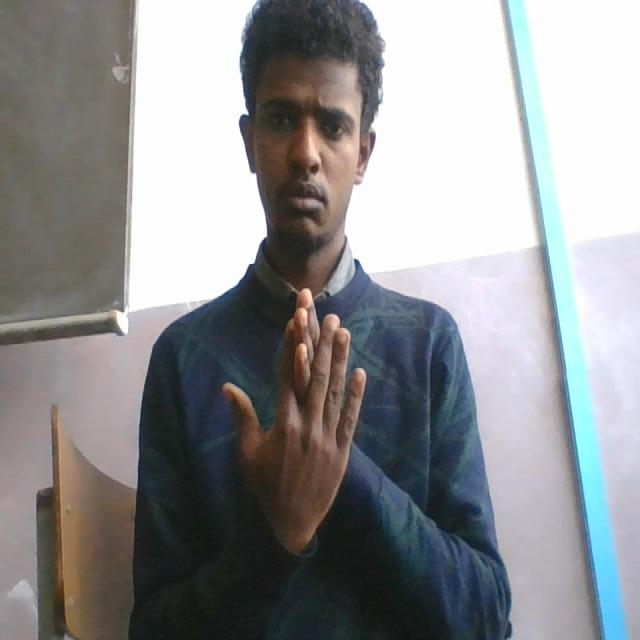bekul: (216, 286, 371, 566)
